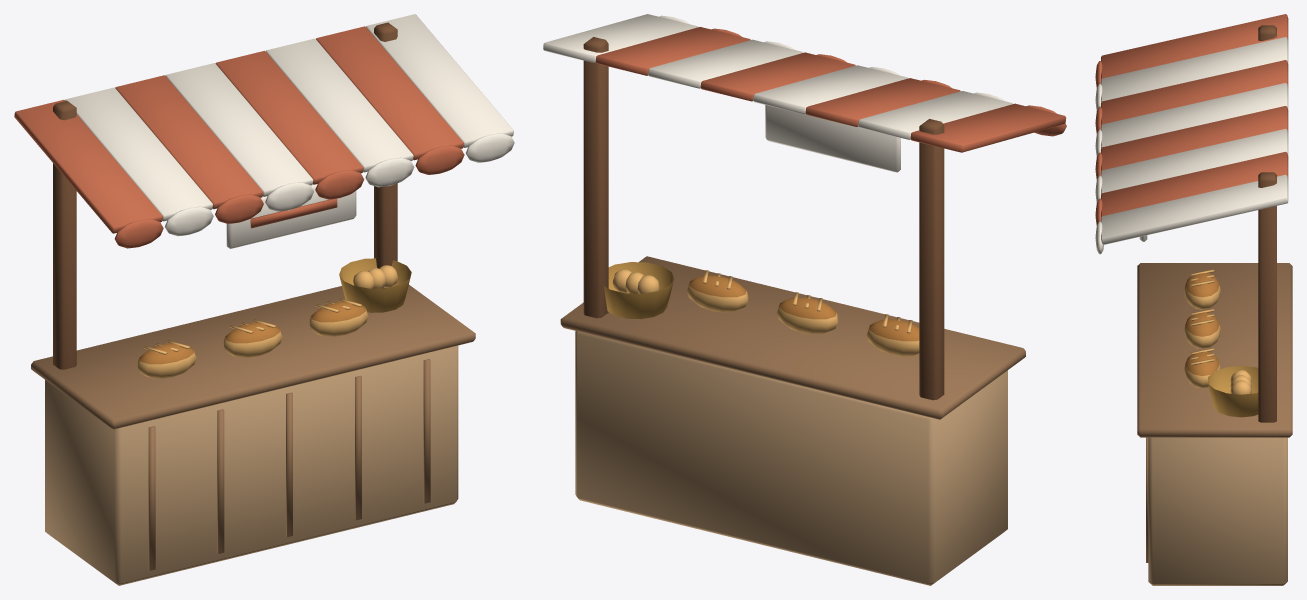
The model's file is stall.glb.
3 renders of one model, left to right at view 1: azimuth 30°, elevation 25°; view 2: azimuth 150°, elevation 25°; view 3: azimuth 270°, elevation 25°, orthographic. The views are drawn at different scales.
Parts seen in each view (by area): view 1: stall:mesh; view 2: stall:mesh; view 3: stall:mesh.
Boxes of the visible parts, box(x1,y1,x2,y2) form: stall:mesh: box(14, 14, 514, 585); stall:mesh: box(543, 14, 1066, 585); stall:mesh: box(1095, 14, 1292, 585).
Bounding box in the file's own units: 2.8 × 2.9 × 1.27.
